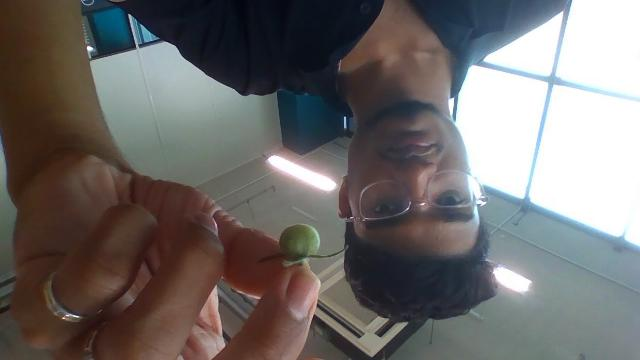Fruit Maturation: (279, 223, 319, 262)
